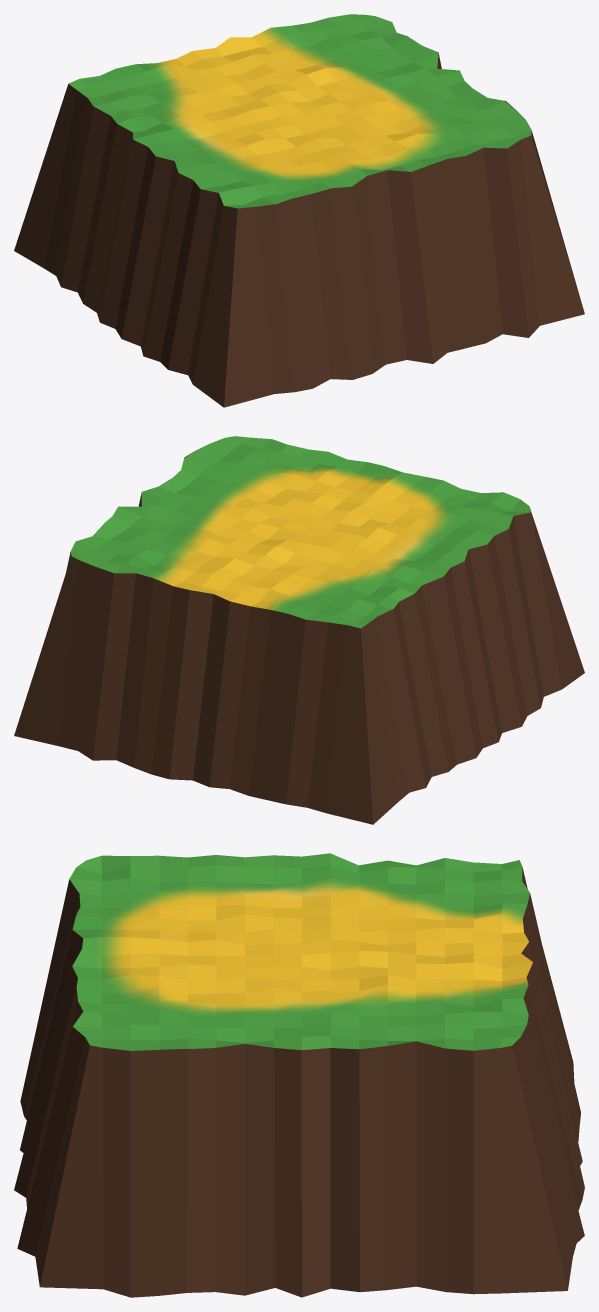
Rendered from SmallIsland.FBX.
The picture shows the model from 3 angles, top to bottom: view 1: azimuth 30°, elevation 25°; view 2: azimuth 150°, elevation 25°; view 3: azimuth 270°, elevation 25°; orthographic projection. The views are drawn at different scales.
Visible parts, largest first — view 1: IslandOne; view 2: IslandOne; view 3: IslandOne.
Boxes of the visible parts, x1=… form: IslandOne: x1=14, y1=14, x2=584, y2=407; IslandOne: x1=14, y1=436, x2=584, y2=824; IslandOne: x1=14, y1=853, x2=584, y2=1297.
Size of the model in its own units: 868 by 395 by 870.
1 material, 1 textured.
